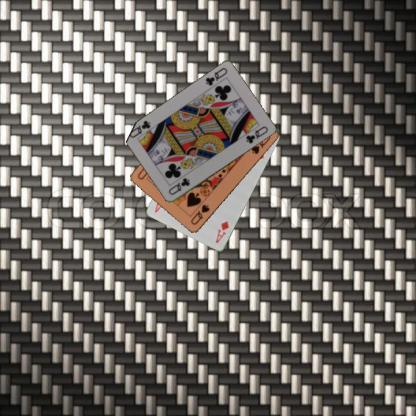Ad: (213, 218, 231, 245)
Qc: (203, 66, 229, 88), (166, 176, 191, 197)
Qs: (188, 202, 211, 227)
